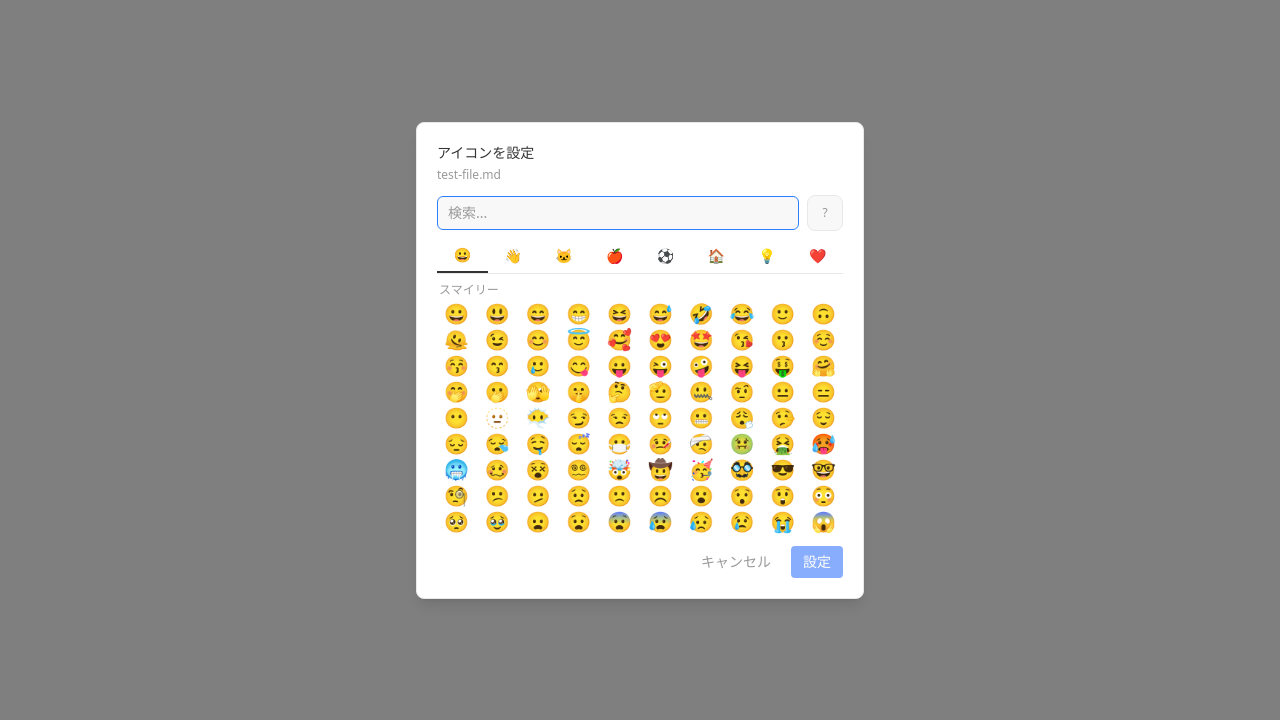
it: EmojiInputDialog › 検索中はカテゴリタブが非表示
The image size is (1280, 720).
Type "heart" into the field named "絵文字を検索".
click(618, 212); type("heart")  # box [437,196,799,230]
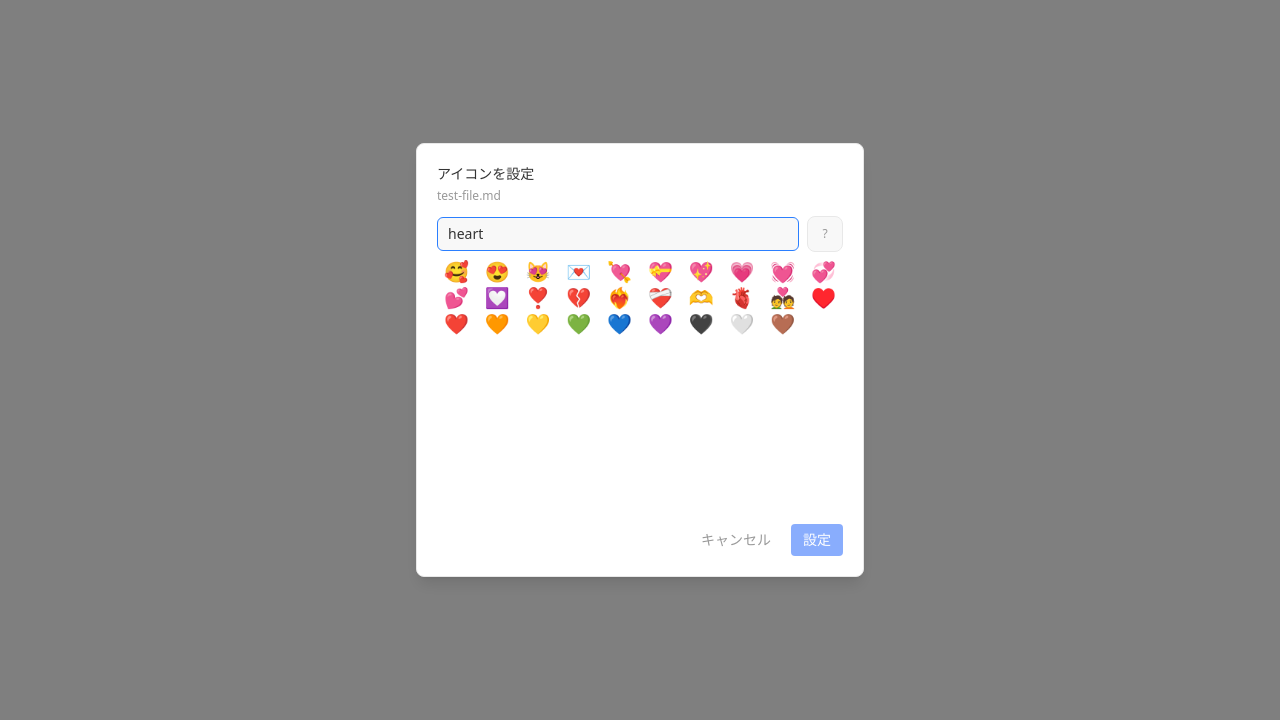
Now the text labelled "スマイリー" is gone
